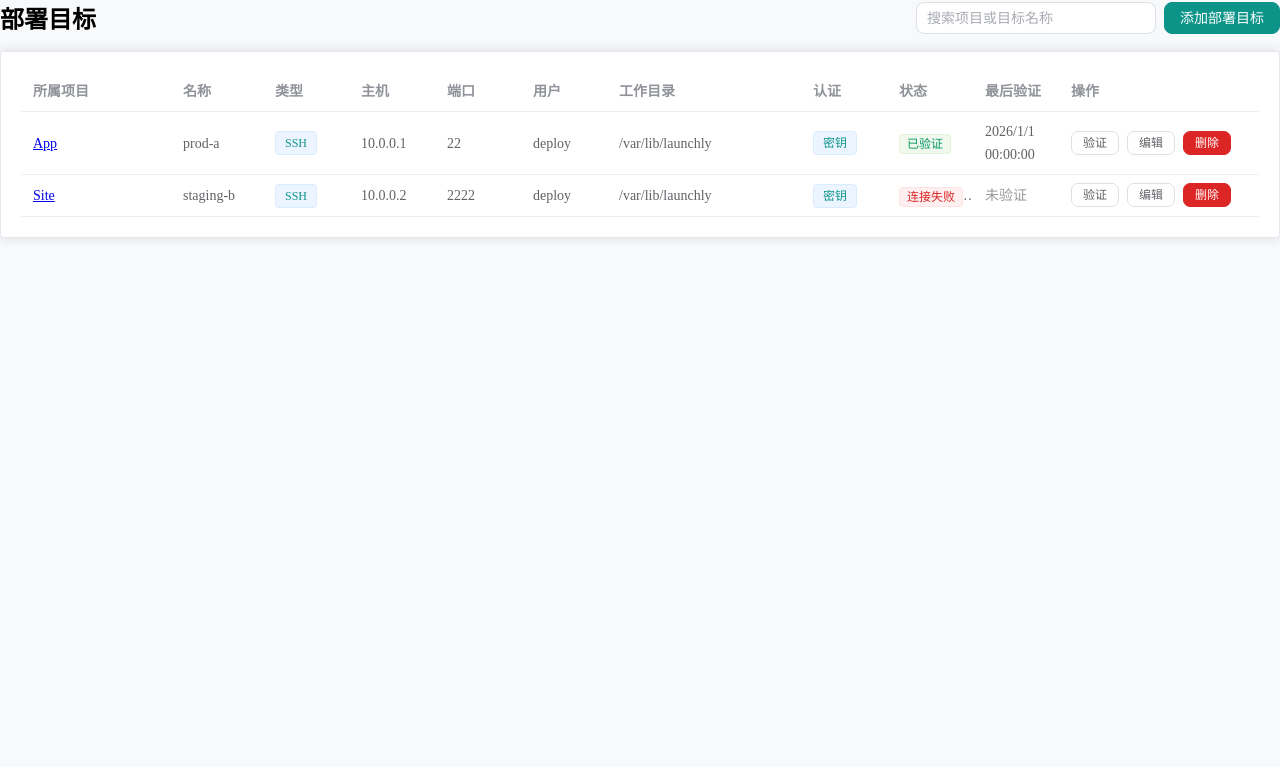
DeployTargetsPage › DTP.11 openEdit pre-fills the form with the target record
The image size is (1280, 767).
Note: Click 编辑 on the first row.
Click the button "编辑" in the row of "App" at (1151, 143), box [1127,131,1175,155]
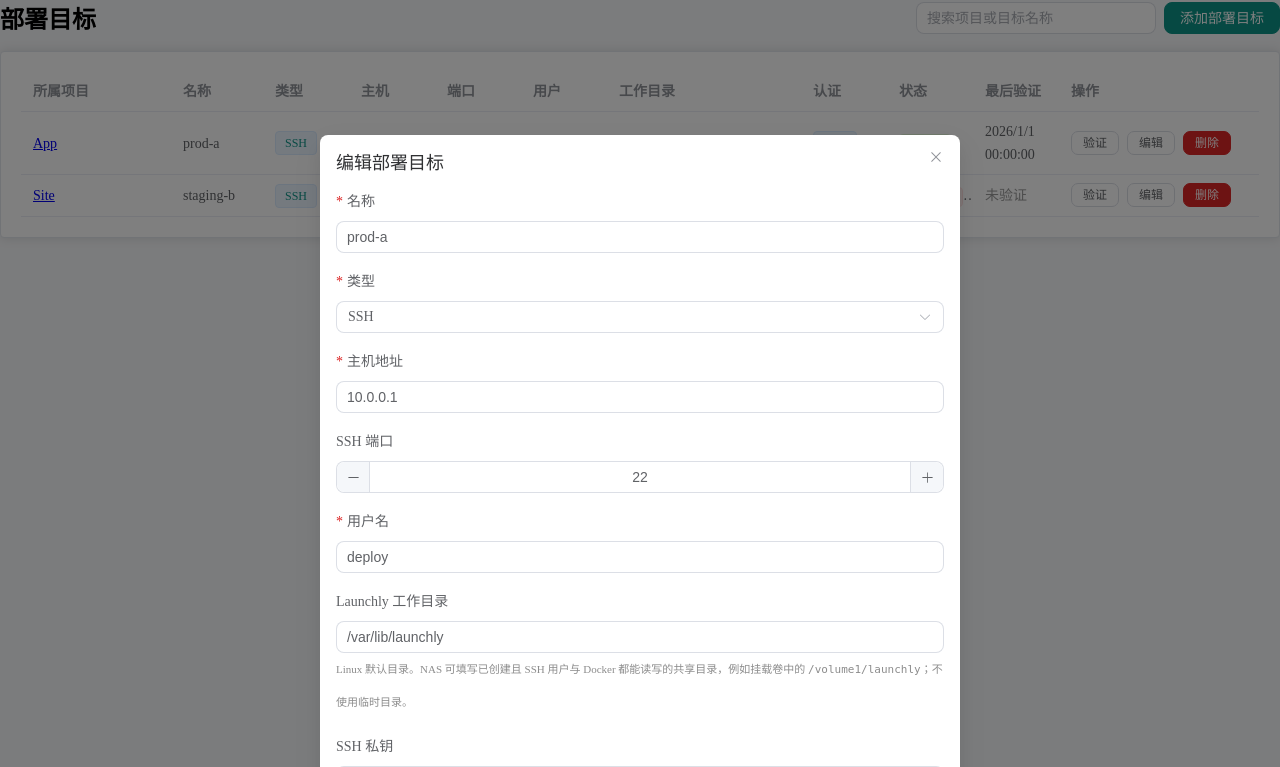
Now the heading "编辑部署目标" is shown, box [336,153,444,173]
Now the field with placeholder "生产服务器、测试节点等" holds "prod-a", box [347,222,933,252]
